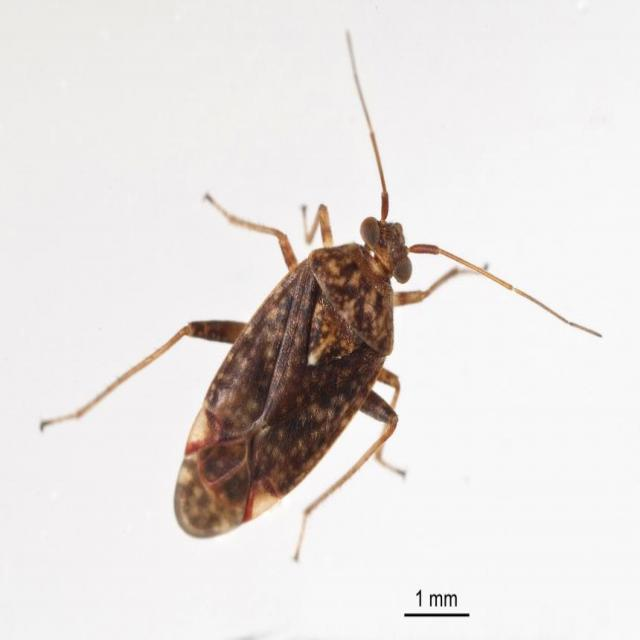Miridae-Adult-: (26, 25, 605, 572)
